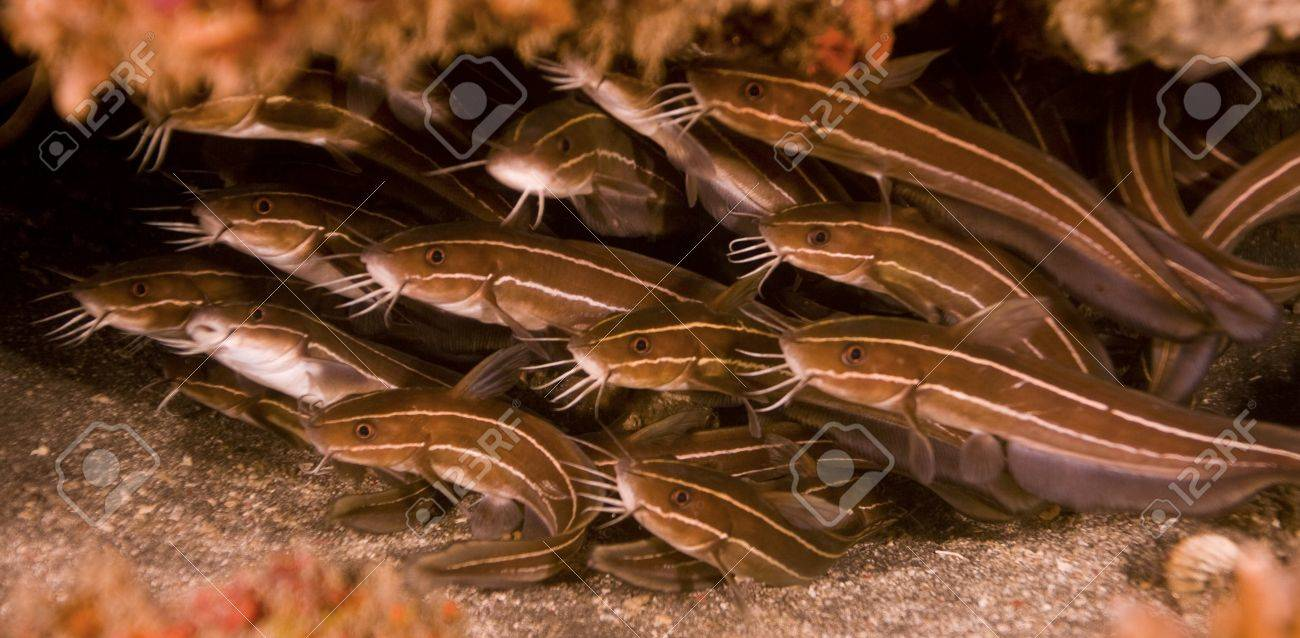gonzui: (794, 306, 1281, 517), (383, 206, 731, 321)
